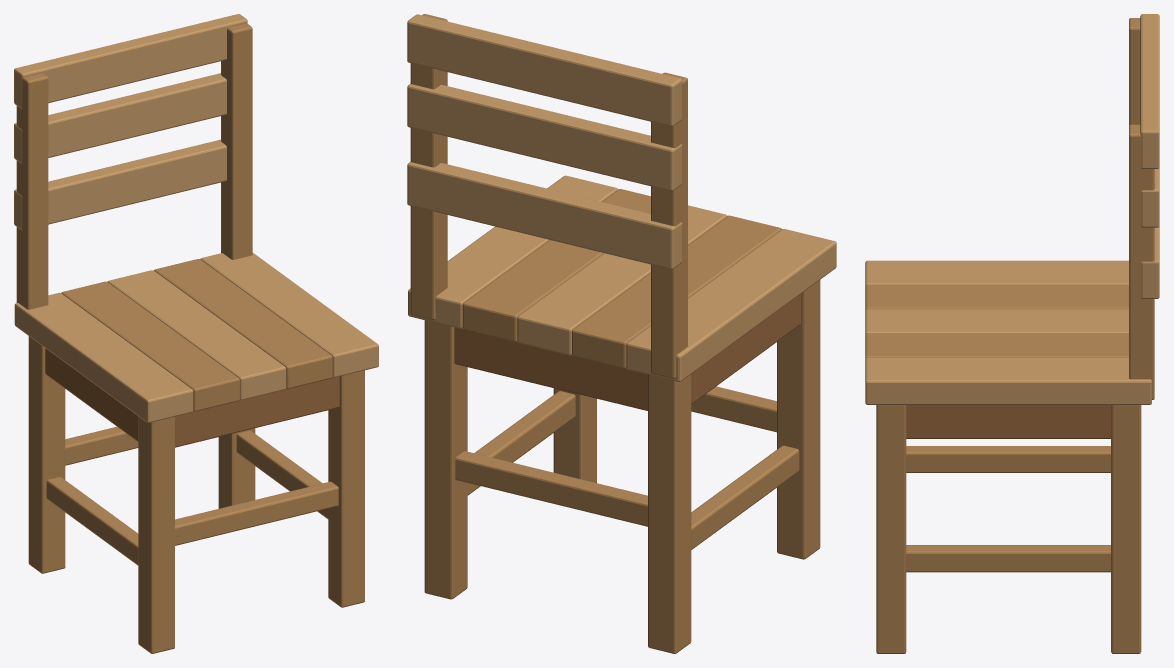
File: chair-wood.glb
3 renders of one model, left to right at view 1: azimuth 30°, elevation 25°; view 2: azimuth 150°, elevation 25°; view 3: azimuth 270°, elevation 25°, orthographic. The views are drawn at different scales.
Visible parts, largest first — view 1: Seat board 1, Back slat, Leg.001, Back slat.001, Back slat.002, Leg.003, Leg, Seat board 2, Seat board 4, Seat, Back upright.001, Seat board 5 (+8 smaller); view 2: Back slat, Back slat.001, Back slat.002, Leg, Seat board 1, Leg.002, Leg.001, Seat board 2, Cross apron.001, Seat, Seat board 4, Back upright.001 (+8 smaller); view 3: Seat board 5, Leg.002, Leg.003, Side apron.001, Seat, Seat board 4, Seat board 1, Seat board 2, Side stretcher.001, Side stretcher, Back upright, Back slat (+3 smaller).
Boxes of the visible parts, <box> form: Seat board 1: <box>14,292,193,422</box>; Back slat: <box>14,14,247,108</box>; Leg.001: <box>138,416,174,653</box>; Back slat.001: <box>14,139,226,230</box>; Back slat.002: <box>14,73,226,163</box>; Leg.003: <box>328,370,364,607</box>; Leg: <box>28,336,65,573</box>; Seat board 2: <box>61,281,239,411</box>; Seat board 4: <box>154,259,332,388</box>; Seat: <box>107,270,286,400</box>; Back upright.001: <box>16,73,48,309</box>; Seat board 5: <box>200,253,378,377</box>; Back slat: <box>407,14,682,126</box>; Back slat.001: <box>407,162,682,269</box>; Back slat.002: <box>407,83,682,191</box>; Leg: <box>648,374,691,653</box>; Seat board 1: <box>626,229,836,381</box>; Leg.002: <box>424,320,467,599</box>; Leg.001: <box>777,280,820,559</box>; Seat board 2: <box>572,215,781,368</box>; Cross apron.001: <box>454,327,647,410</box>; Seat: <box>517,205,727,355</box>; Seat board 4: <box>462,189,650,342</box>; Back upright.001: <box>651,72,687,378</box>; Seat board 5: <box>865,357,1151,404</box>; Leg.002: <box>1111,405,1141,653</box>; Leg.003: <box>876,405,906,653</box>; Side apron.001: <box>906,405,1110,438</box>; Seat: <box>865,309,1128,334</box>; Seat board 4: <box>865,333,1128,358</box>; Seat board 1: <box>865,260,1128,286</box>; Seat board 2: <box>865,285,1128,310</box>; Side stretcher.001: <box>906,545,1110,572</box>; Side stretcher: <box>906,446,1110,472</box>; Back upright: <box>1129,124,1154,399</box>; Back slat: <box>1140,14,1159,168</box>.
Bounding box in the file's own units: 0.42 × 0.851 × 0.431.
